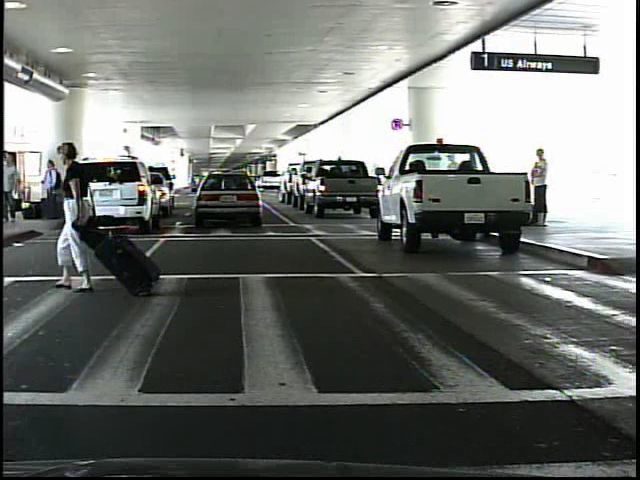person: (43, 143, 114, 292), (516, 150, 554, 228), (40, 158, 61, 222), (2, 153, 20, 222)
